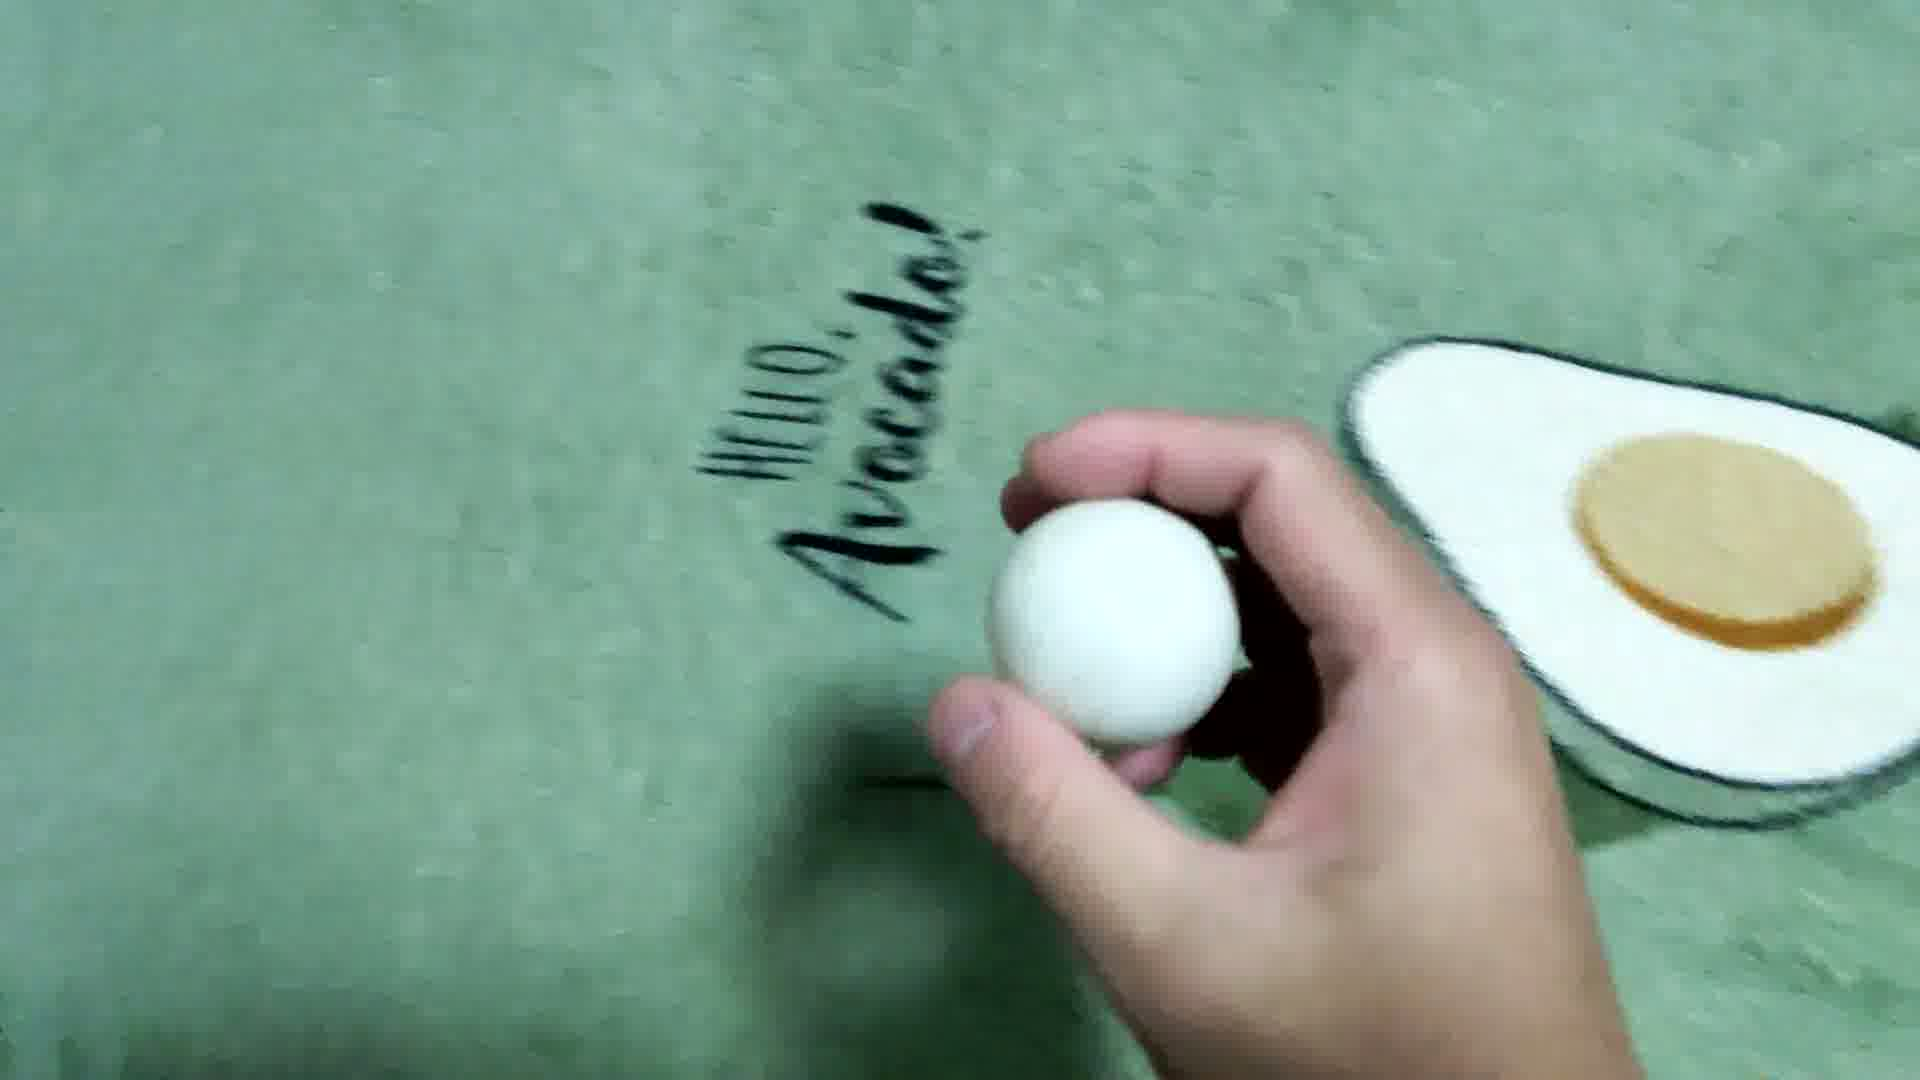Ball: (992, 492, 1226, 745)
